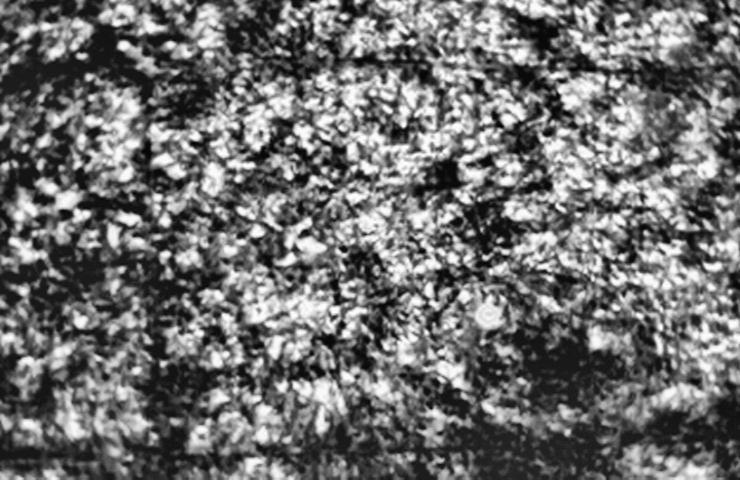landmines: (473, 302, 507, 333)
